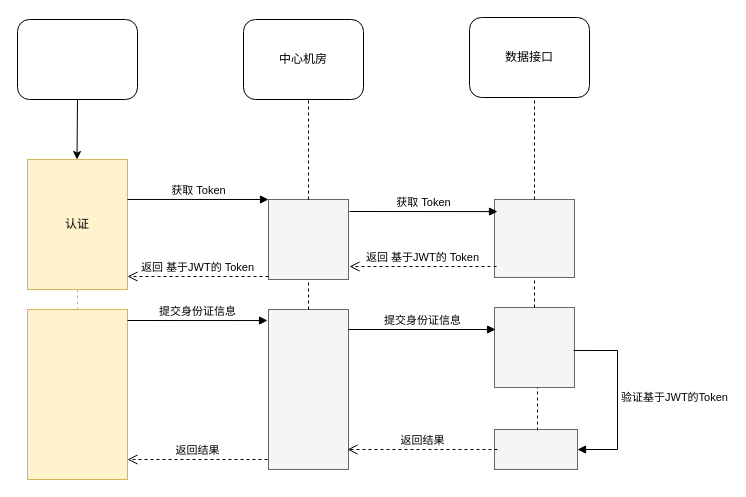
The diagram is 746 pixels wide and 497 high, and some of its shapes have lost their labels. The centre of each missing label's shape, as x and y in pixels:
"查询" goes at pixel 77 394.
"现场办公" goes at pixel 77 59.
